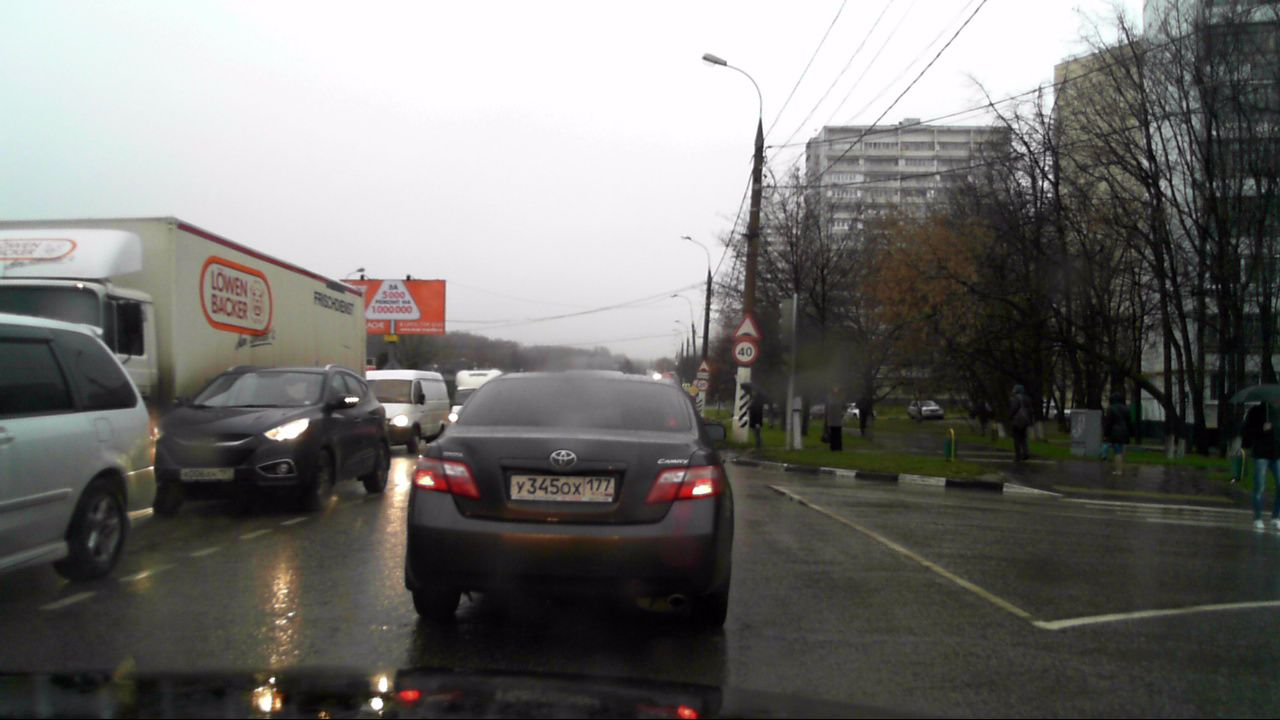speed_warning_40: (733, 341, 755, 363)
